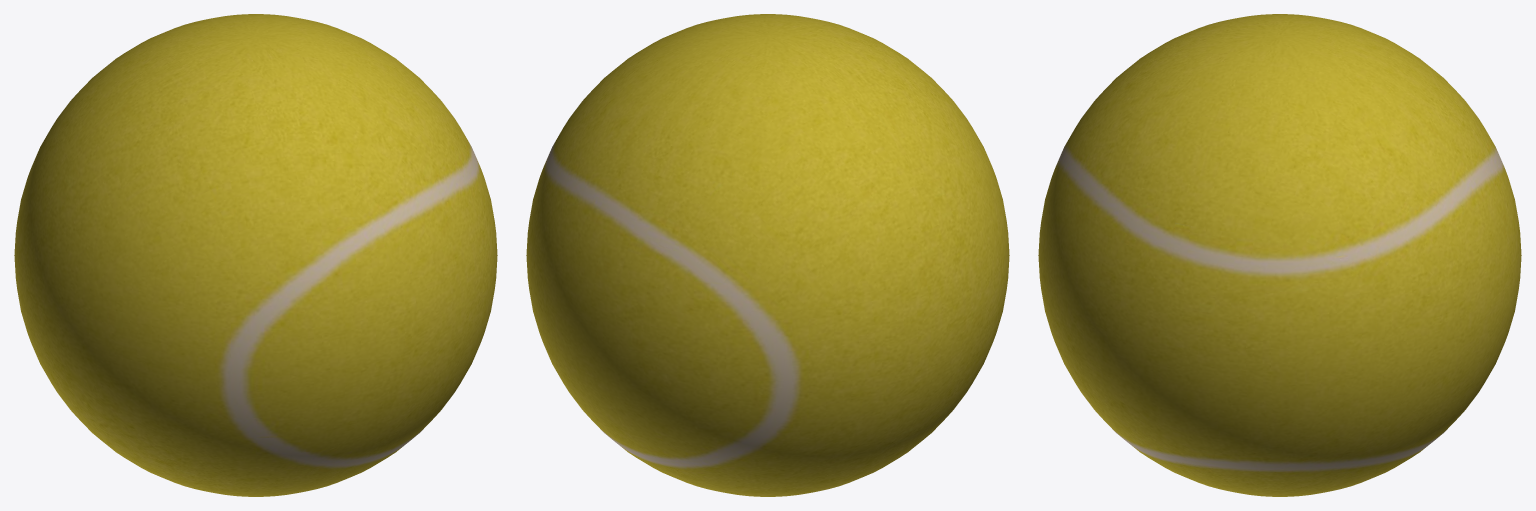
The model's file is ball_e69cc5f0_visual.obj.
3 renders of one model, left to right at view 1: azimuth 30°, elevation 25°; view 2: azimuth 150°, elevation 25°; view 3: azimuth 270°, elevation 25°, orthographic.
Size of the model in its own units: 0.07 by 0.07 by 0.07.
Materials: 1 (1 with a texture image).
